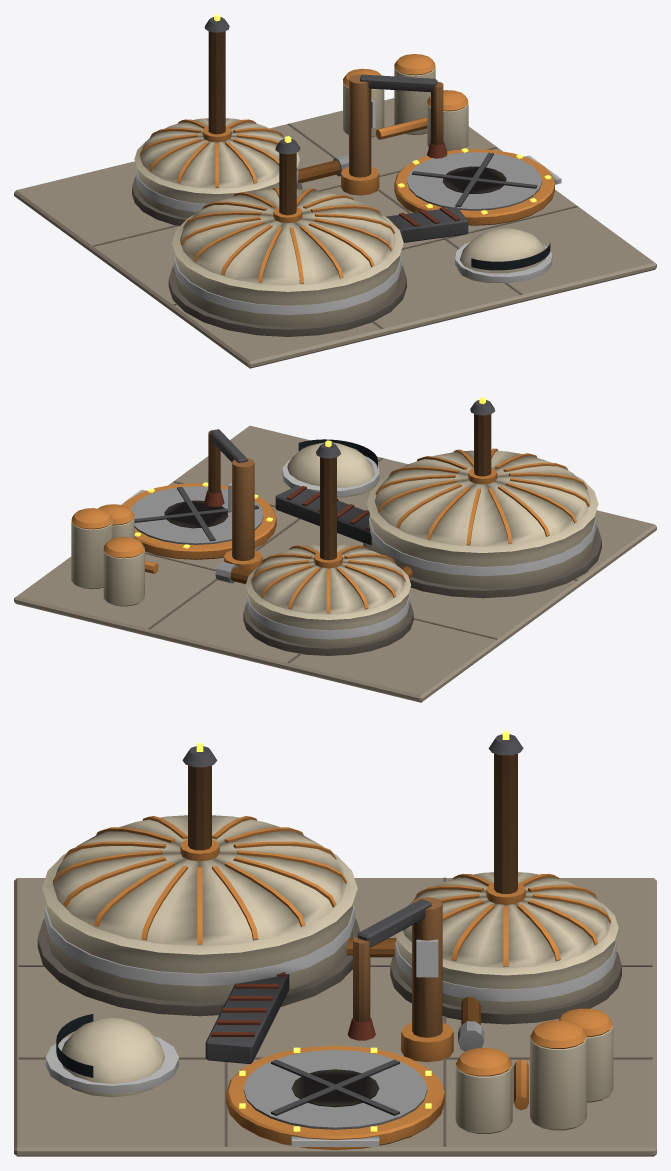
The model's file is REFINERY.glb.
3 views of the same model, one above another, from view 1: azimuth 30°, elevation 25°; view 2: azimuth 150°, elevation 25°; view 3: azimuth 270°, elevation 25° (orthographic). The views are drawn at different scales.
Parts seen in each view (by area): view 1: base, tank_main, tank_north, plant, pad, crane; view 2: base, tank_main, tank_north, plant, pad, crane; view 3: base, tank_main, plant, tank_north, pad, crane.
Part boxes in pixels (left/top/right/bottom): base: left=14, top=98, right=656, bottom=368; tank_main: left=168, top=136, right=406, bottom=336; tank_north: left=132, top=14, right=302, bottom=225; plant: left=297, top=54, right=552, bottom=282; pad: left=394, top=148, right=561, bottom=225; crane: left=341, top=74, right=447, bottom=195; base: left=14, top=425, right=656, bottom=702; tank_main: left=363, top=397, right=601, bottom=598; tank_north: left=243, top=440, right=413, bottom=655; plant: left=71, top=439, right=412, bottom=606; pad: left=120, top=482, right=276, bottom=559; crane: left=204, top=429, right=262, bottom=571; base: left=14, top=877, right=656, bottom=1156; tank_main: left=37, top=743, right=360, bottom=1016; plant: left=45, top=938, right=613, bottom=1133; tank_north: left=390, top=731, right=621, bottom=1024; pad: left=226, top=1045, right=444, bottom=1149; crane: left=347, top=897, right=453, bottom=1062.
Bounding box in the file's own units: 2.98 × 1.45 × 2.94.
